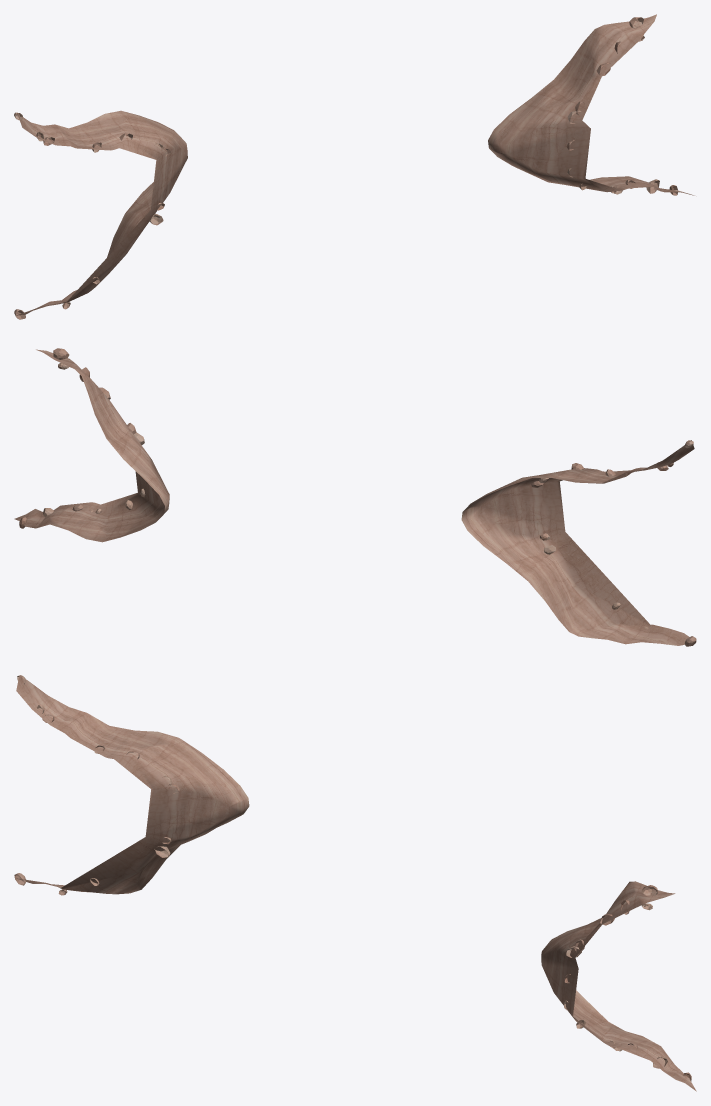
File: Stone000.obj
3 views of the same model, one above another, from view 1: azimuth 30°, elevation 25°; view 2: azimuth 150°, elevation 25°; view 3: azimuth 330°, elevation 25° (orthographic).
Parts seen in each view (by area): view 1: pCylinder810__WallRockSand00_rep; view 2: pCylinder810__WallRockSand00_rep; view 3: pCylinder810__WallRockSand00_rep.
Part boxes in pixels (left/top/right/bottom): pCylinder810__WallRockSand00_rep: left=14, top=14, right=694, bottom=319; pCylinder810__WallRockSand00_rep: left=14, top=348, right=696, bottom=646; pCylinder810__WallRockSand00_rep: left=14, top=675, right=696, bottom=1091.
Size of the model in its own units: 5401 by 1872 by 556.
2 materials, 1 textured.
